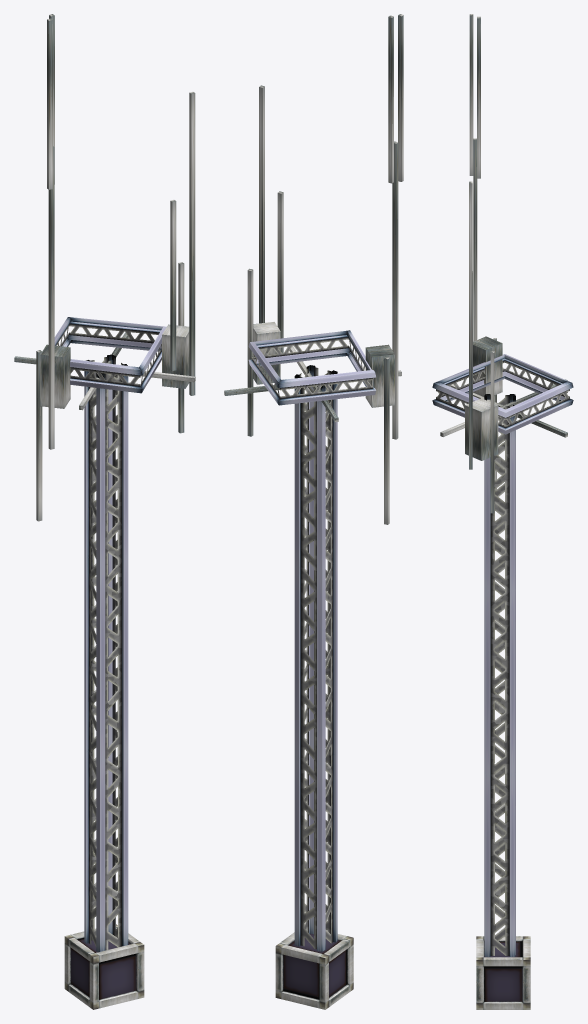
The model's file is mast_medium_radio.DAE.
The picture shows the model from 3 angles, left to right: view 1: azimuth 30°, elevation 25°; view 2: azimuth 150°, elevation 25°; view 3: azimuth 270°, elevation 25°; orthographic projection. The views are drawn at different scales.
Visible parts, largest first — view 1: Object03-Pivot; view 2: Object03-Pivot; view 3: Object03-Pivot.
Boxes of the visible parts, bbox=[...] form: Object03-Pivot: bbox=[14, 14, 195, 1009]; Object03-Pivot: bbox=[224, 14, 403, 1009]; Object03-Pivot: bbox=[432, 14, 573, 1009].
Size of the model in its own units: 9.76 by 62.62 by 8.44.
